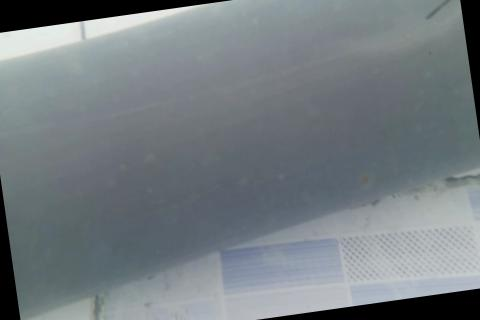keretakan: (415, 0, 462, 24)
